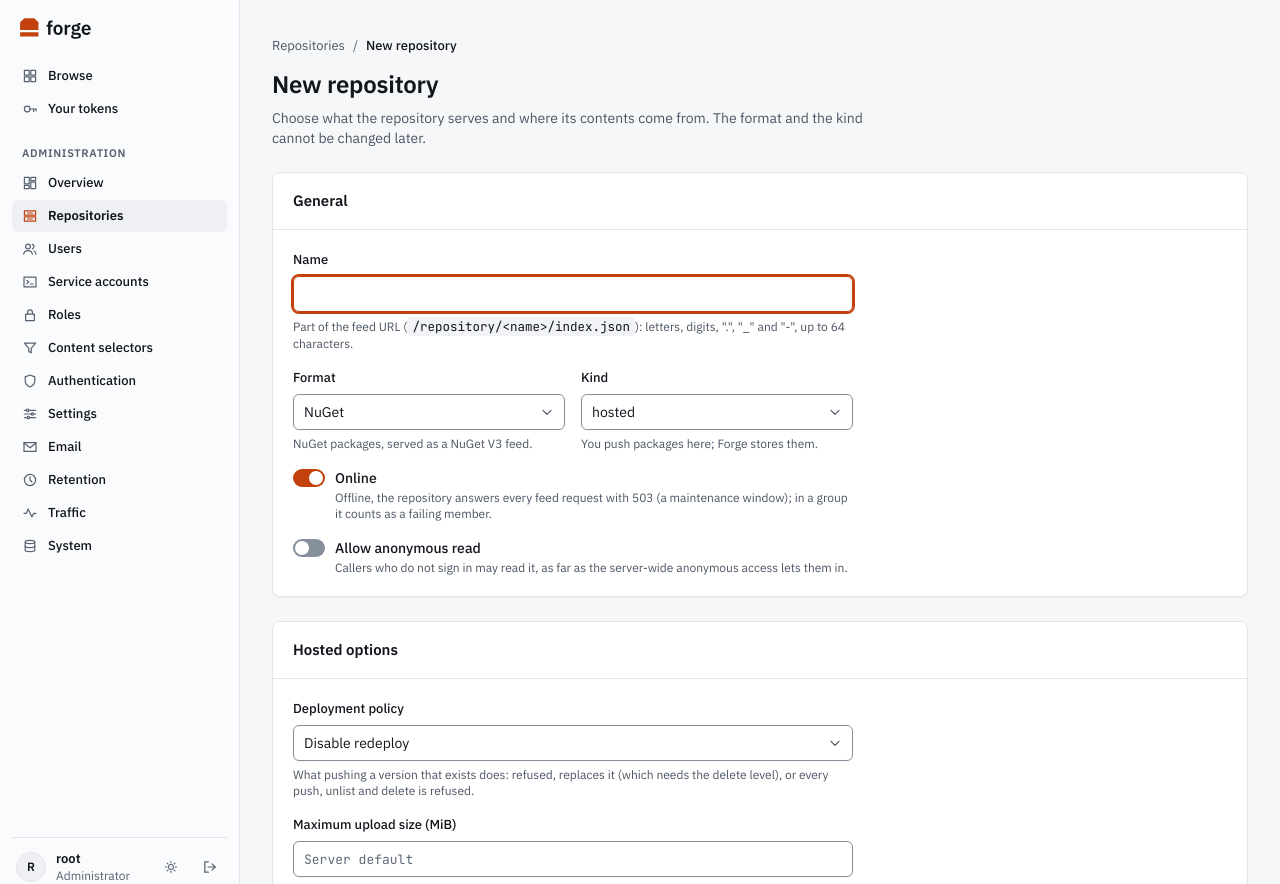
admin repositories › create blocks an invalid repository name before requesting
Step 1. Type "Team Packages" into the field labelled "Name" → (573, 294), box [293, 276, 853, 312]
(page scrolled)
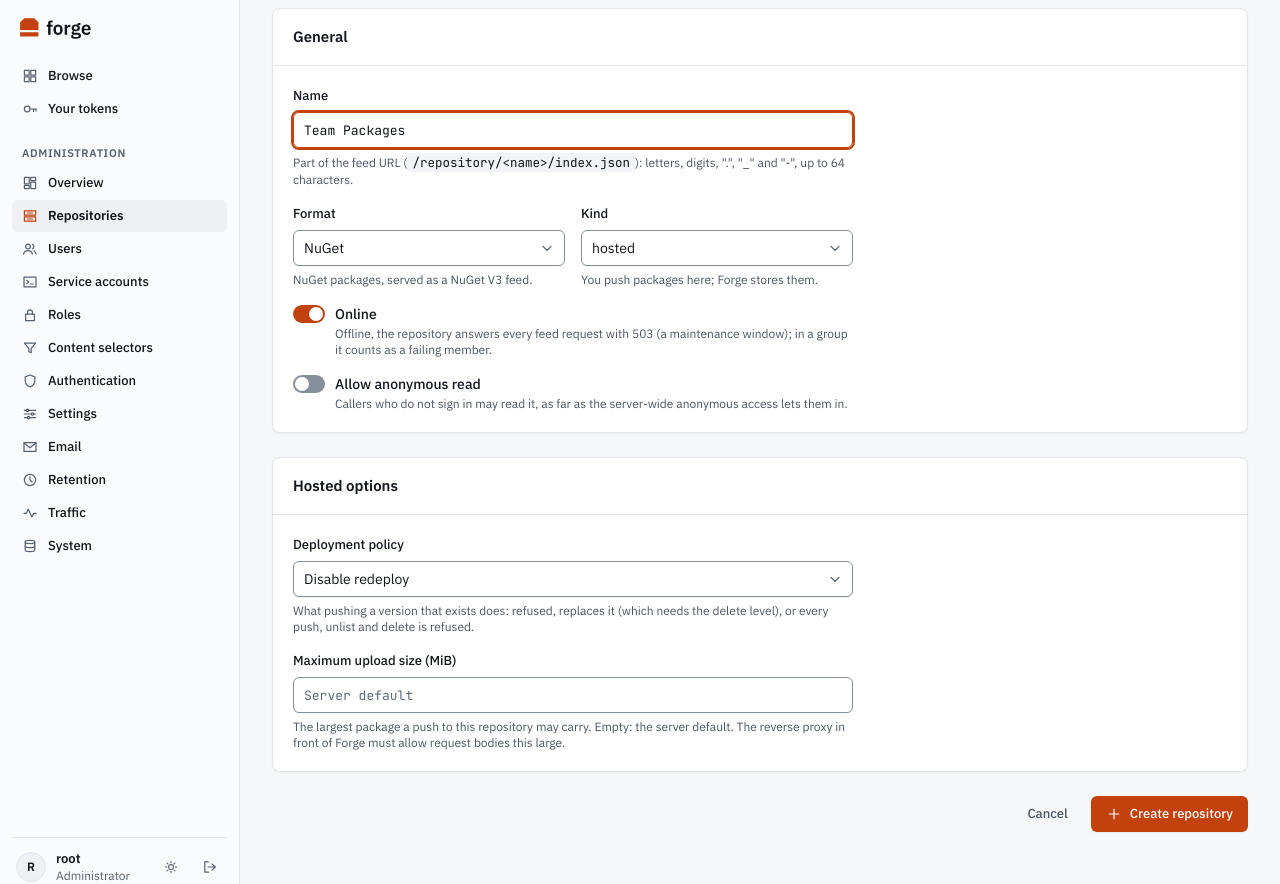
Step 2. Click the button "Create repository" → (1169, 814), box [1091, 796, 1248, 832]
(page scrolled)
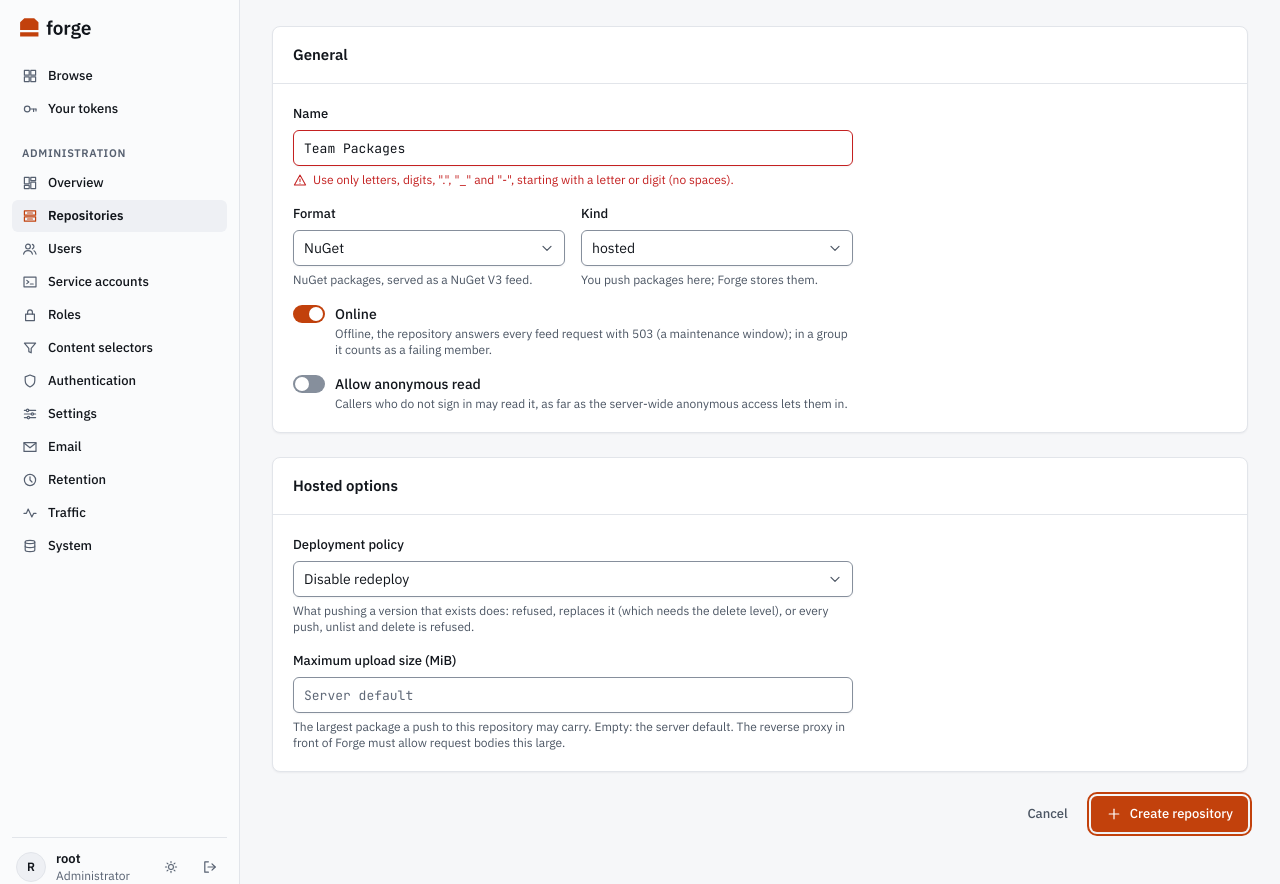
Now the message shows "no spaces", box [313, 172, 734, 187]
